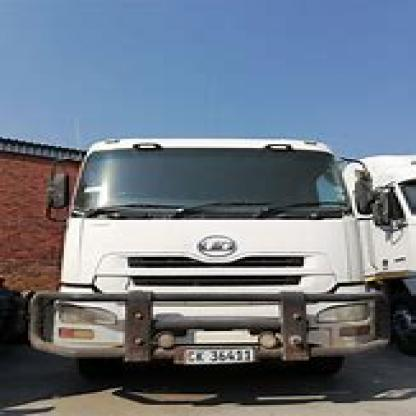dump_truck: (18, 131, 413, 377)
